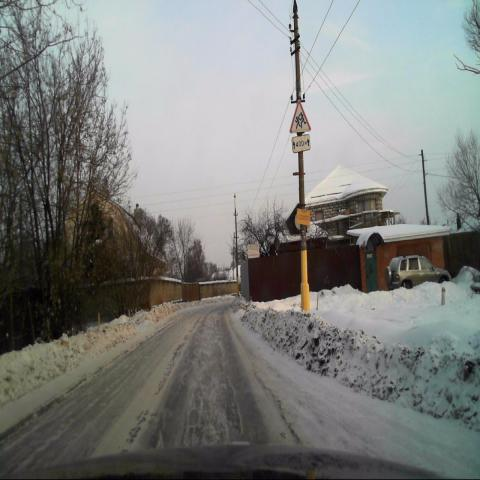8_2_1: (291, 134, 311, 152)
